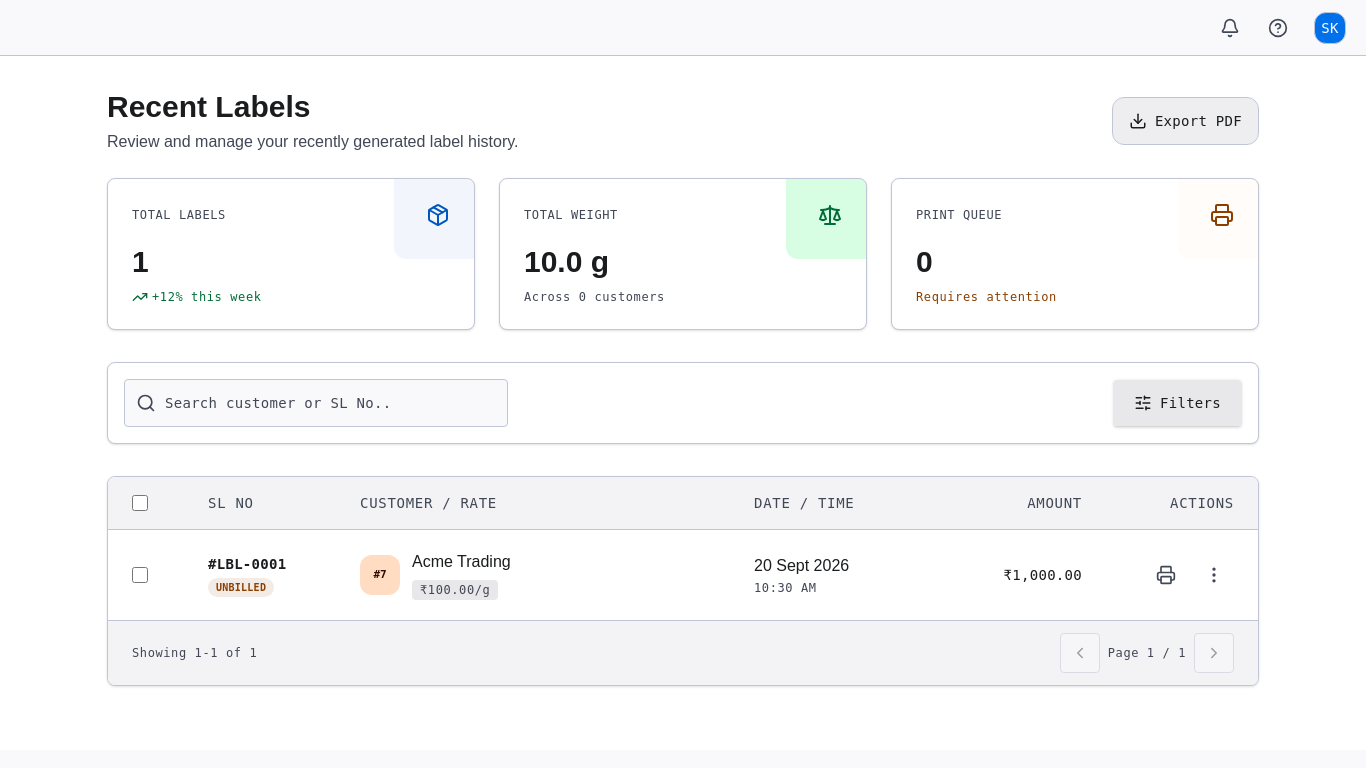
it: Dashboard label row — actions menu › offers edit and delete for an unbilled label
The width and height of the screenshot is (1366, 768).
Click the button named "Label actions": {"x": 1214, "y": 575} top-left (1194, 555), bottom-right (1234, 595)
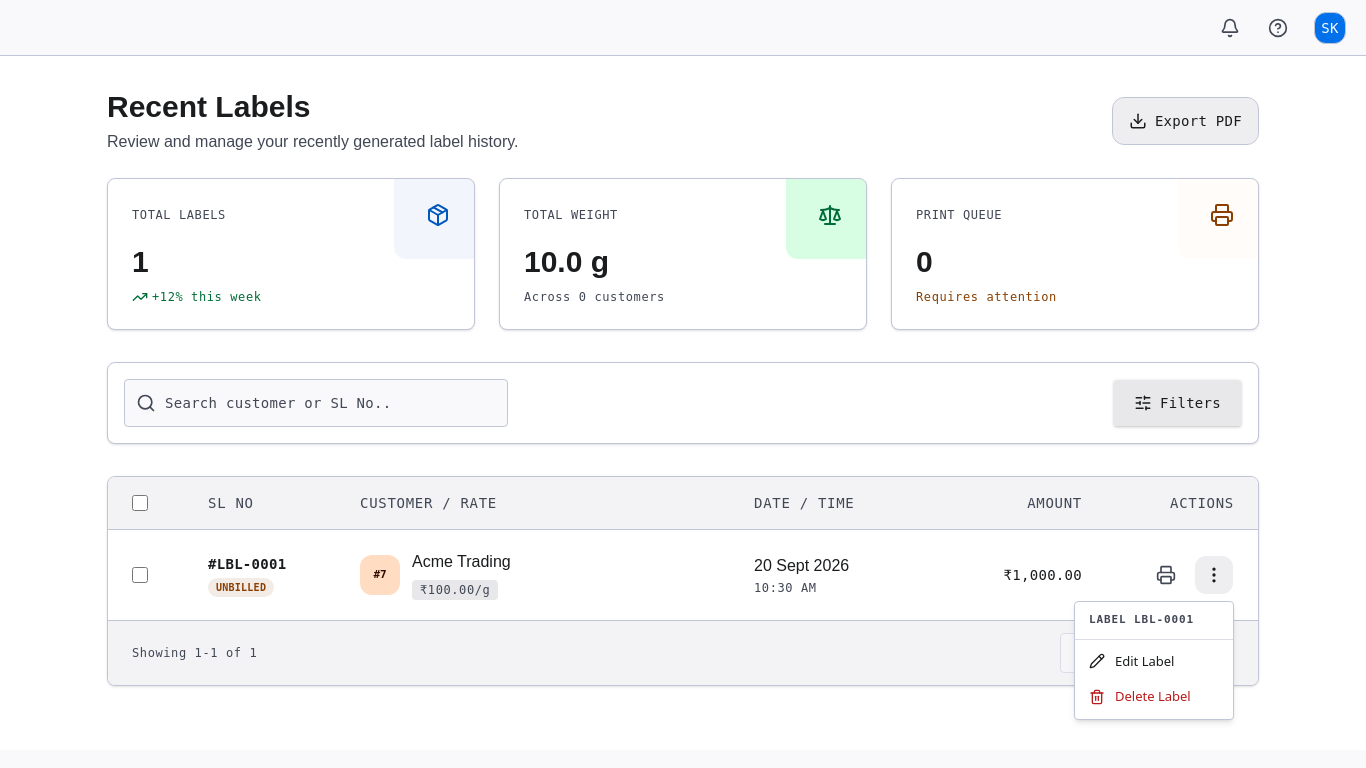
Check: the menu item "Edit Label" is shown, box top-left (1089, 652), bottom-right (1174, 670)
Check: the menu item "Delete Label" is shown, box top-left (1089, 687), bottom-right (1191, 705)
